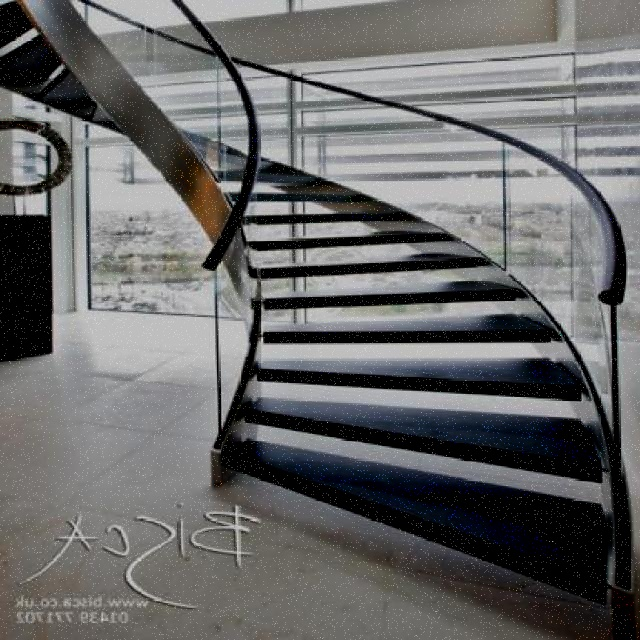stair: (212, 0, 638, 609)
